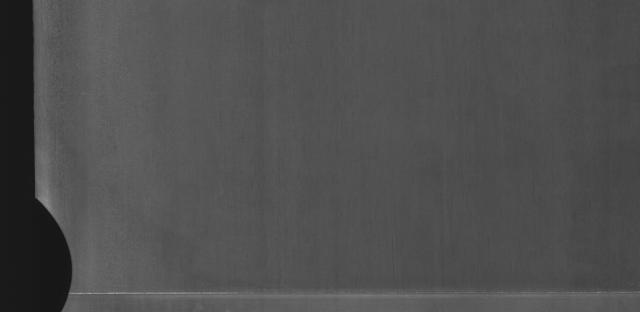crescent_gap: (34, 190, 83, 312)
welding_line: (63, 284, 640, 303)
